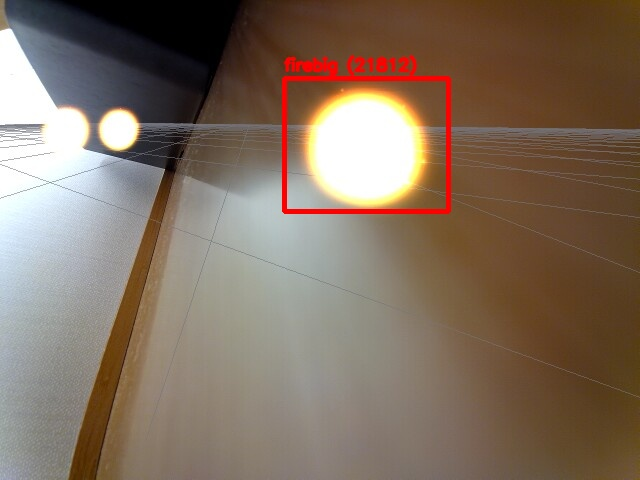firebig: (284, 78, 448, 211)
